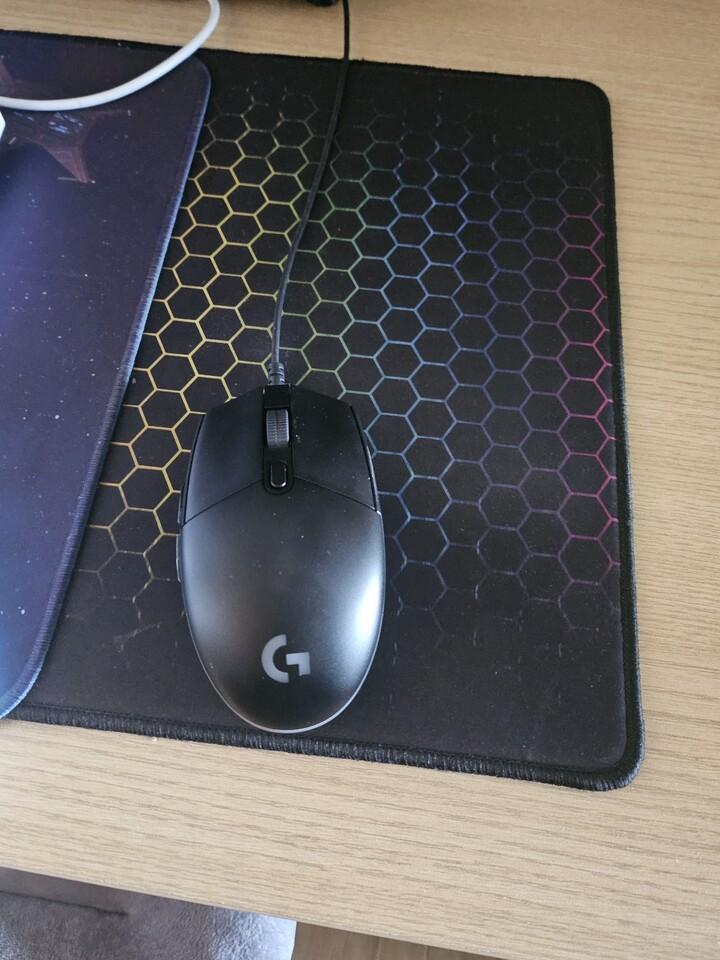mouse: (175, 381, 387, 734)
